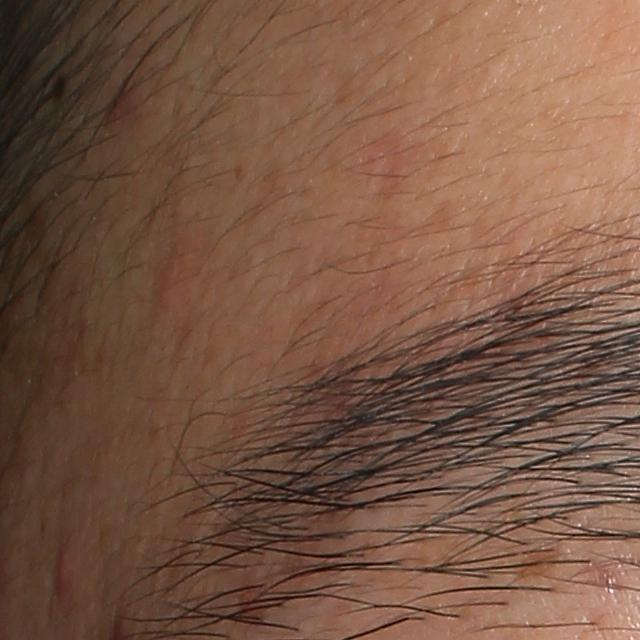nevus: (48, 71, 69, 105)
papule: (41, 528, 81, 599), (147, 258, 189, 312)
